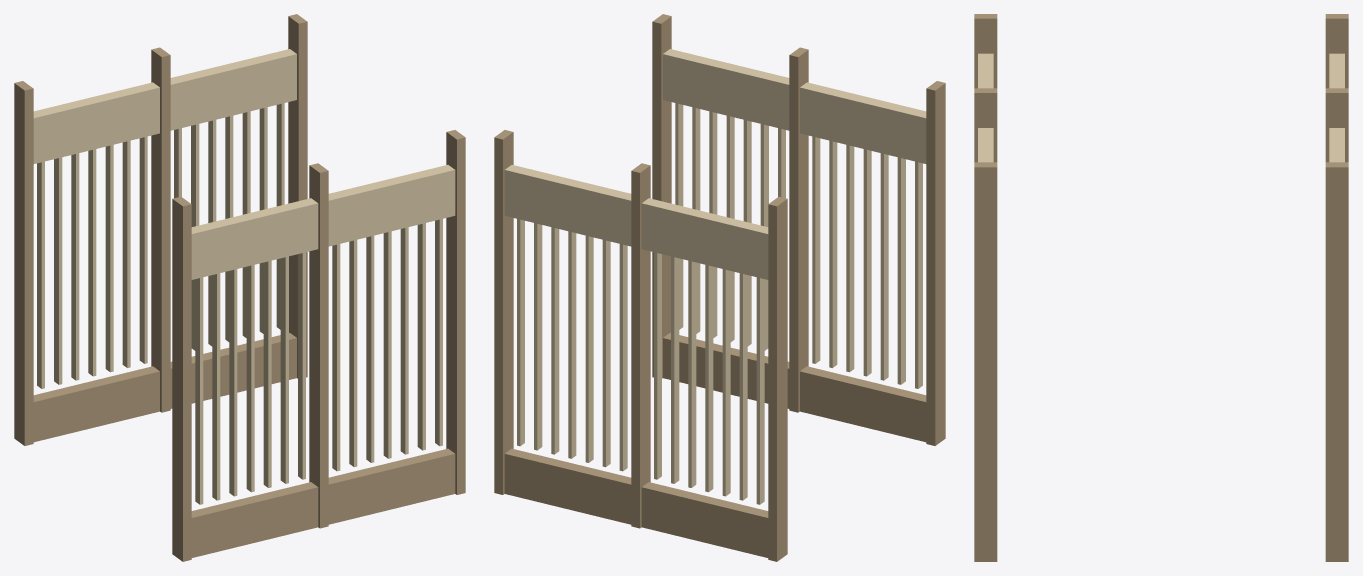
Rendered from Royal_Bridge.fbx.
3 views of the same model, side by side, from view 1: azimuth 30°, elevation 25°; view 2: azimuth 150°, elevation 25°; view 3: azimuth 270°, elevation 25° (orthographic). The views are drawn at different scales.
Parts seen in each view (by area): view 1: Royal_Bridge; view 2: Royal_Bridge; view 3: Royal_Bridge.
Part boxes in pixels (x1=…): Royal_Bridge: x1=14, y1=14, x2=465, y2=561; Royal_Bridge: x1=494, y1=14, x2=945, y2=561; Royal_Bridge: x1=974, y1=14, x2=1348, y2=561.
Size of the model in its own units: 1.03 by 1.24 by 1.07.
